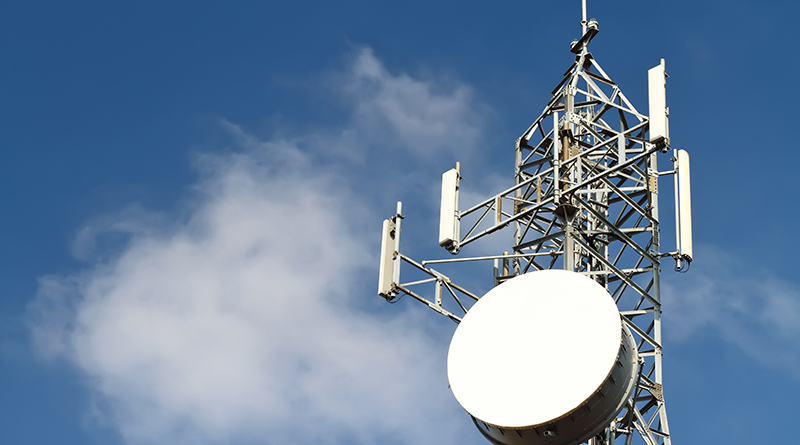a: (665, 144, 696, 276), (373, 205, 405, 301), (642, 59, 674, 150), (436, 162, 463, 250)
b: (445, 266, 636, 445)
